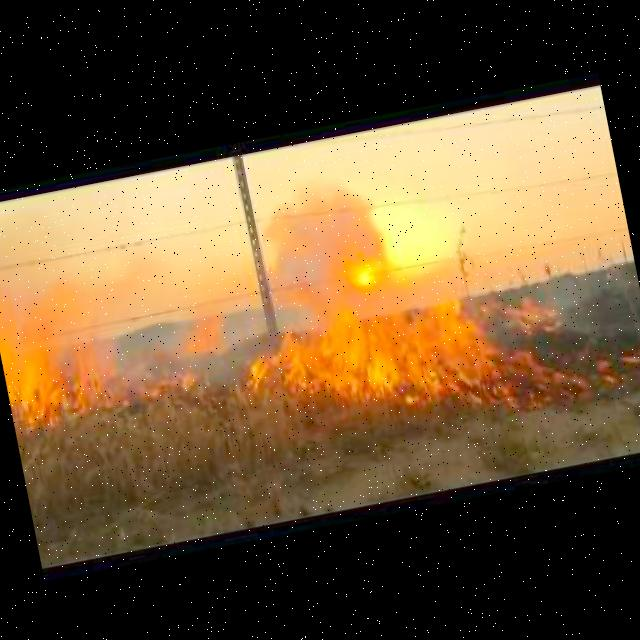fire: (261, 249, 569, 444), (0, 261, 130, 424), (141, 364, 200, 398), (181, 313, 223, 355)
